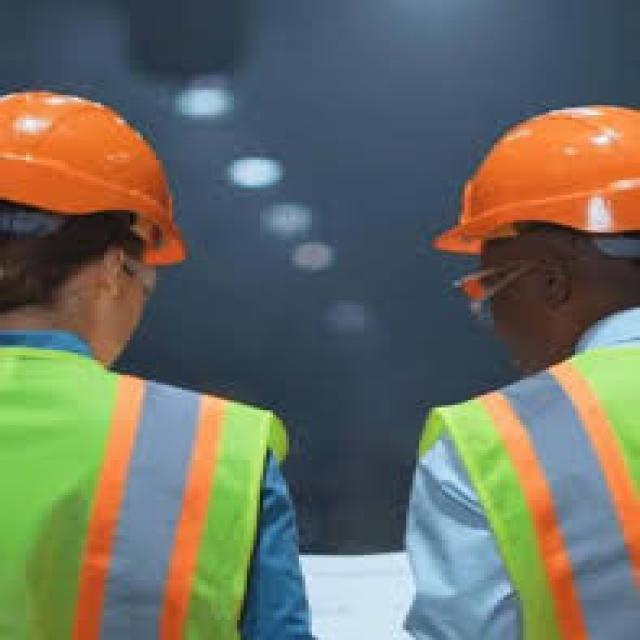reflective_jacket: (6, 345, 289, 635), (399, 334, 633, 637)
safety_helmet: (0, 80, 195, 265), (425, 97, 636, 262)
